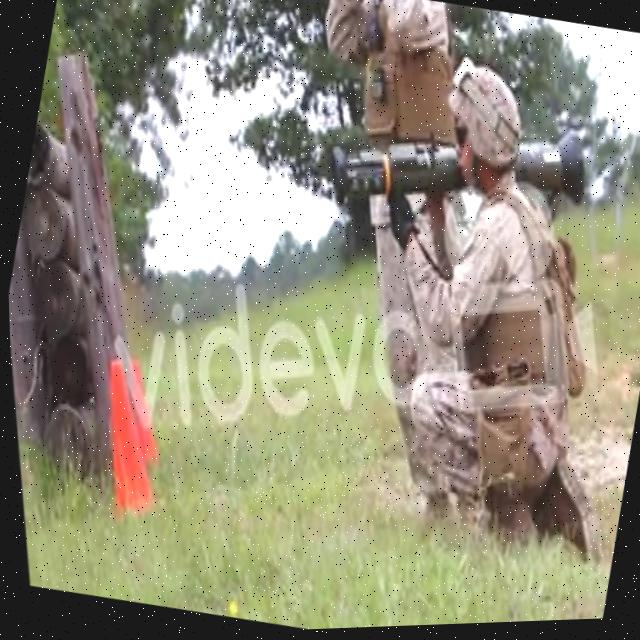rocket: (312, 81, 602, 271)
